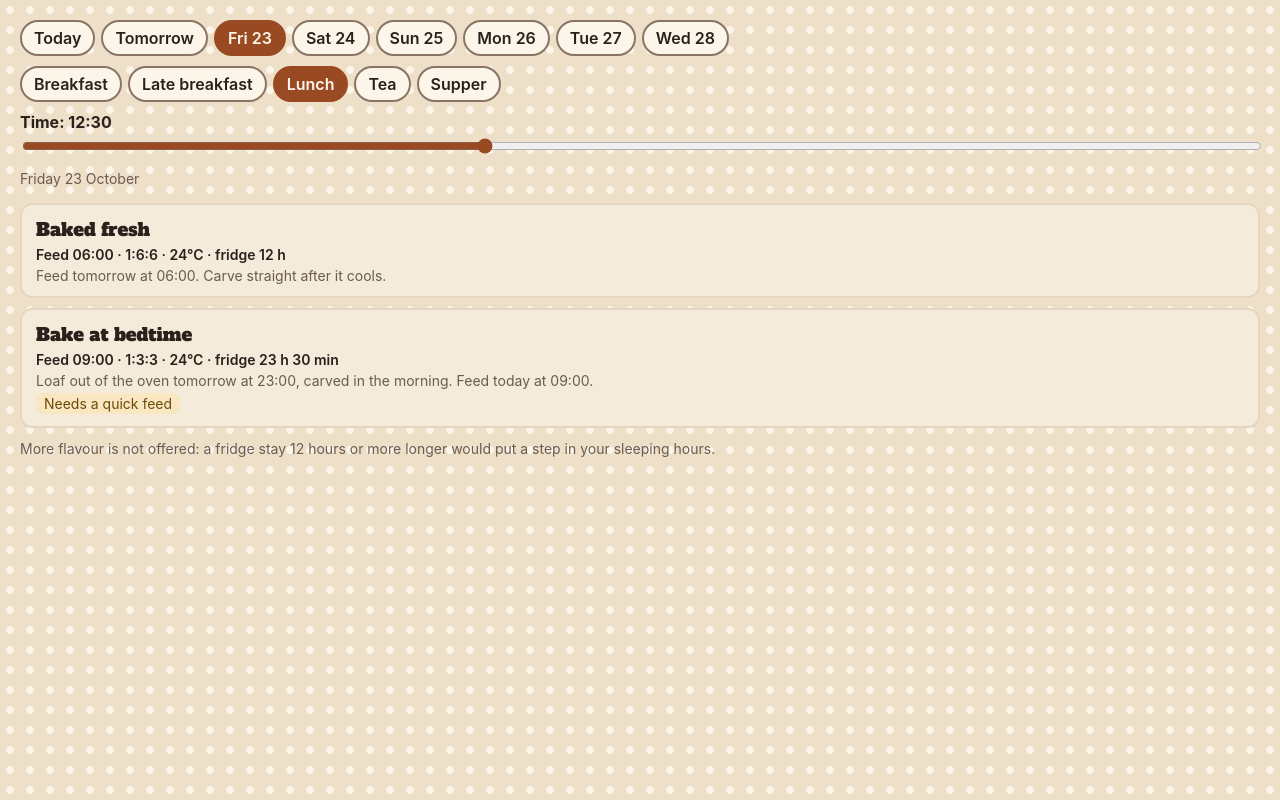
Test: Bread at › says so when nothing fits
Click the button "Today". click: (58, 38)
box: [20,20,95,56]
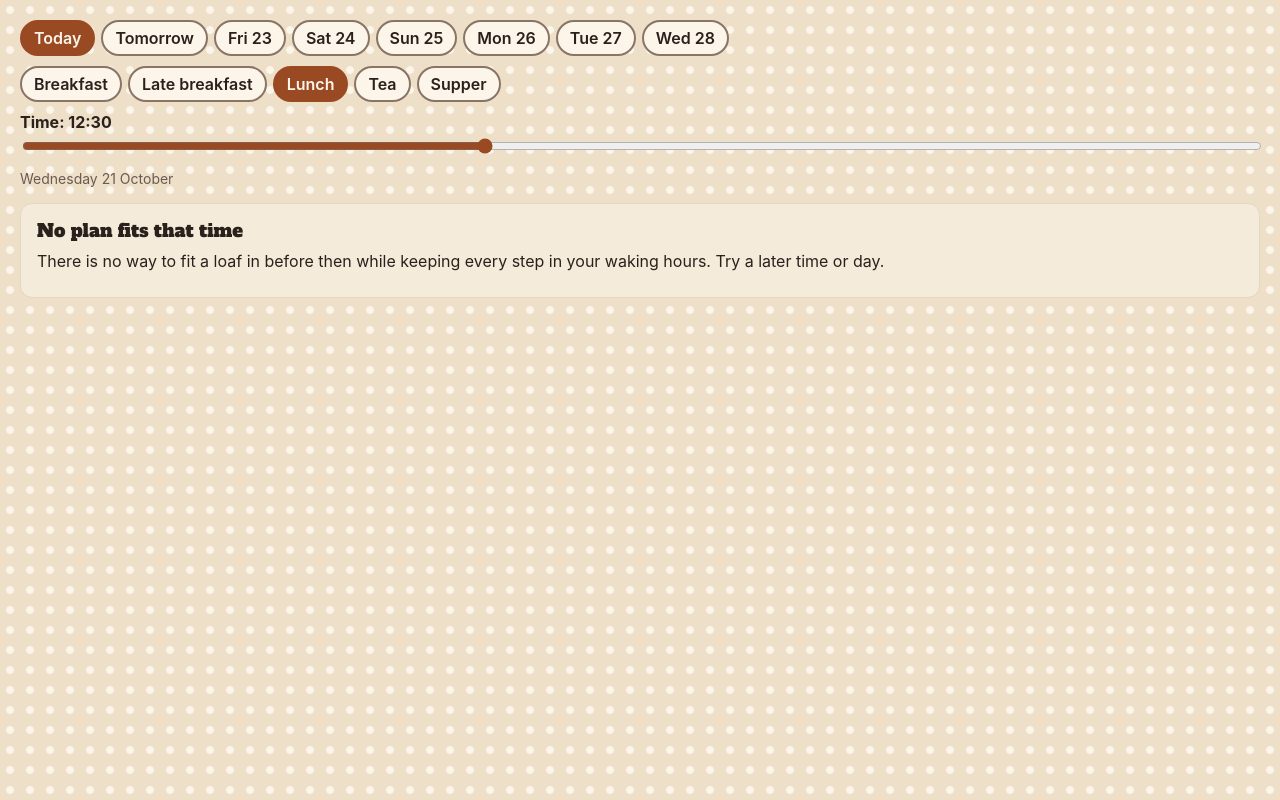
Expected: the message shows "no way to fit", [37,251,884,271]
